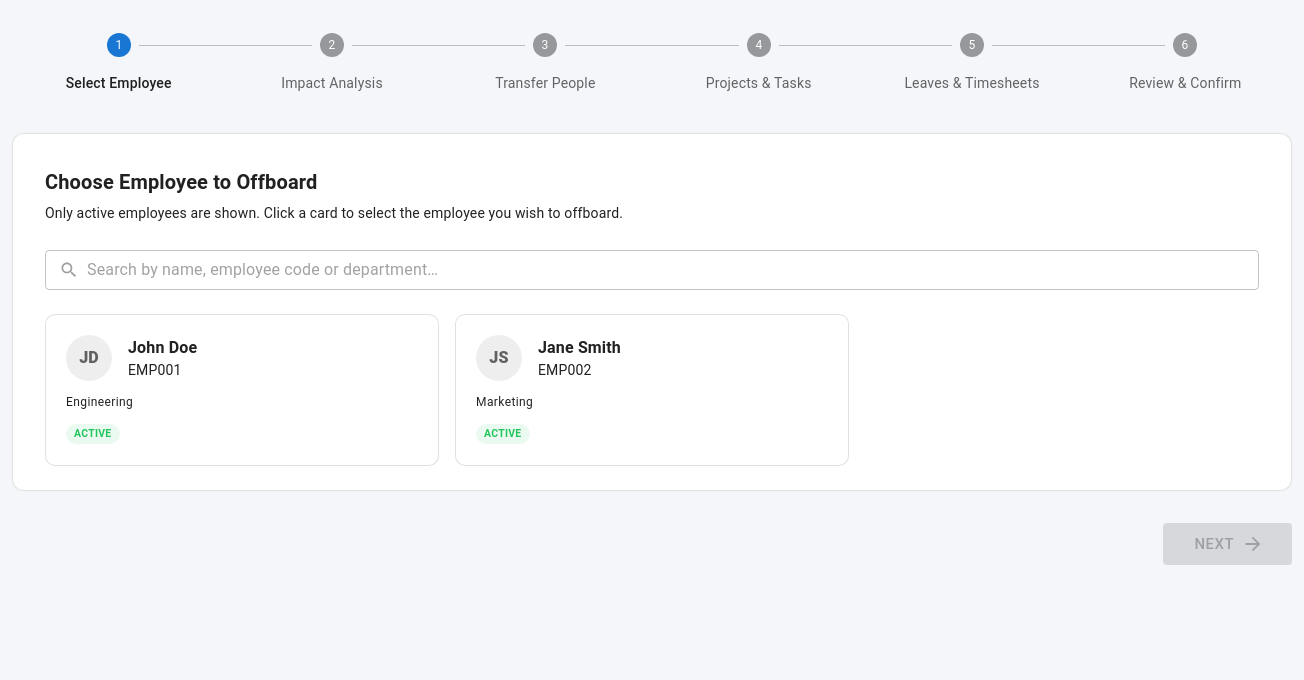
Test: OffboardingWizard › shows alert with success when no impact warnings
The width and height of the screenshot is (1304, 680).
What coordinates should you click on to do the following:
click the text "John Doe"
I would click on:
 (163, 348)
Its box is [128,336,197,360].
(page scrolled)
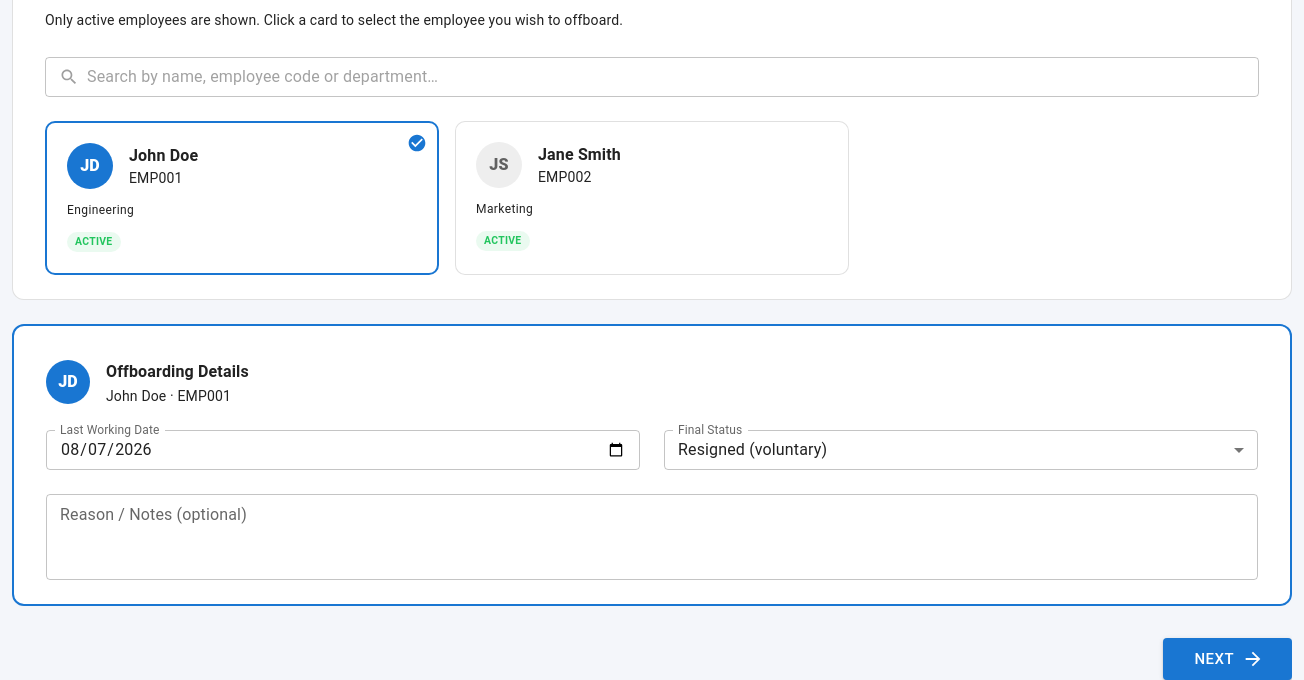
What coordinates should you click on to do the following:
click the button "Next"
I would click on:
 (1227, 659)
Its box is [1162,638,1292,679].
(page scrolled)
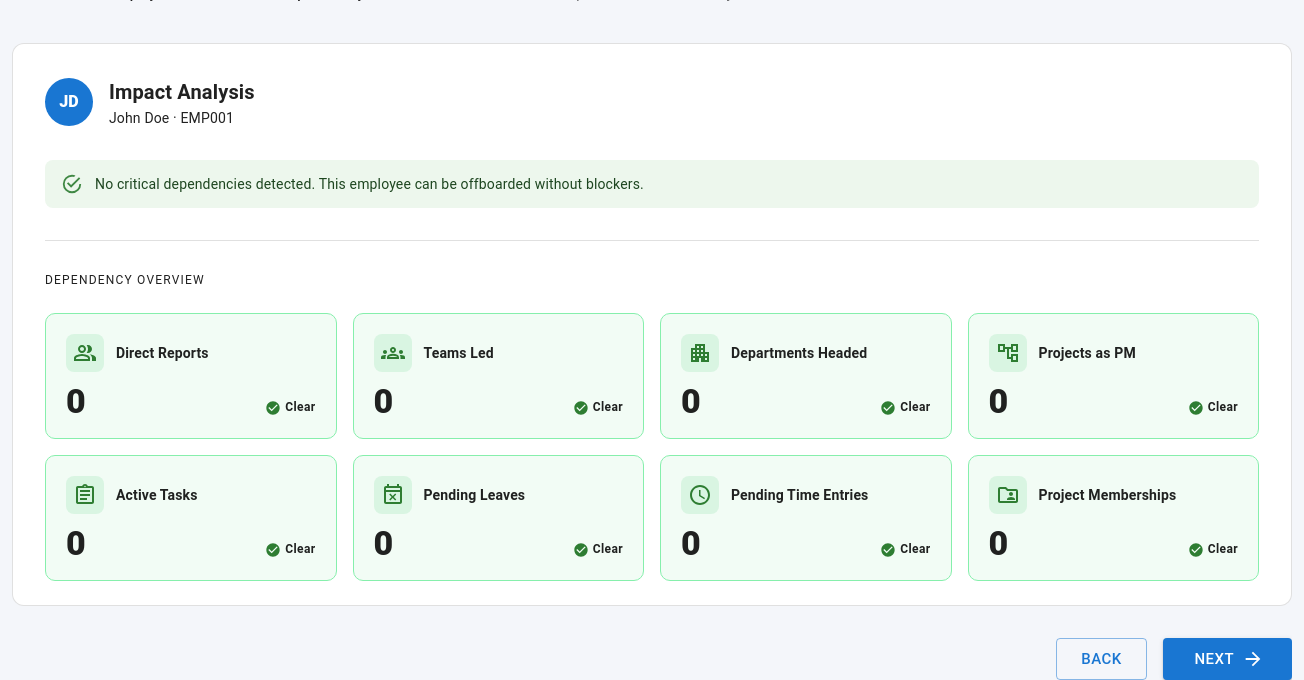
Check: the text "No critical dependencies detected" is shown, box [95,176,644,192]
